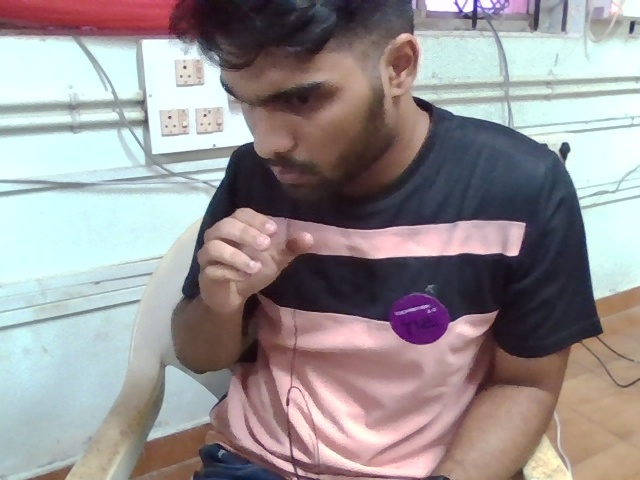Drink: (176, 209, 315, 313)
